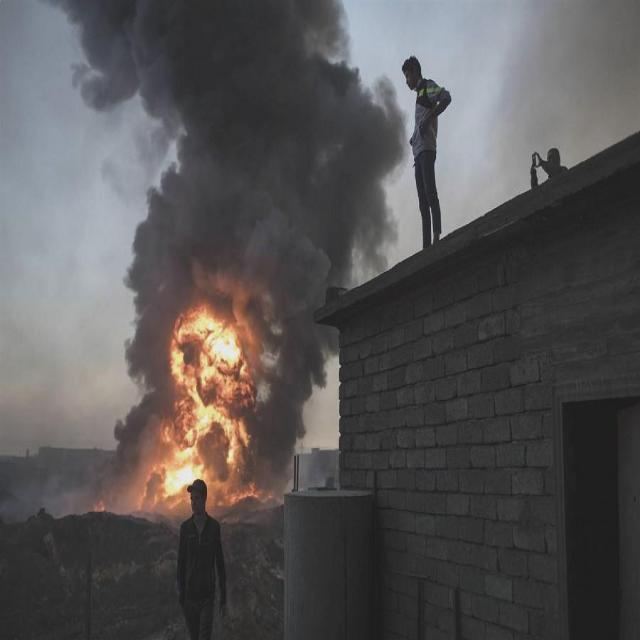Fire: (138, 282, 262, 516), (93, 498, 105, 512)
Smoke: (50, 4, 408, 244), (268, 284, 316, 464), (132, 247, 374, 279)
